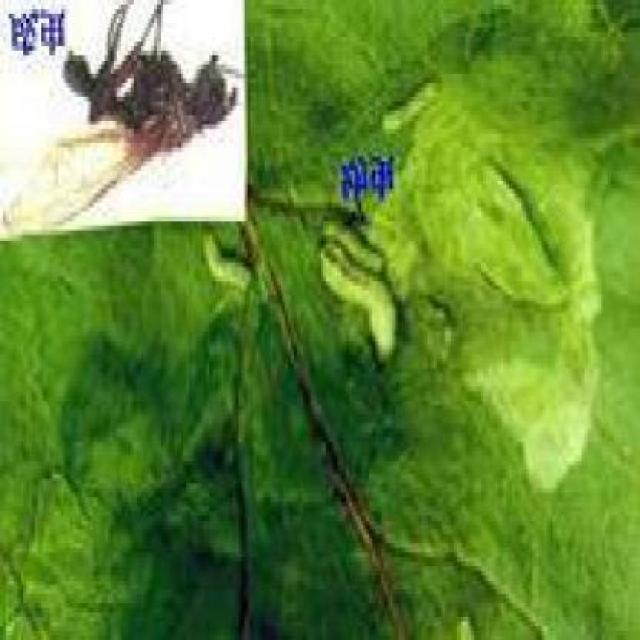whorl-maggot: (301, 194, 407, 363), (380, 68, 458, 144), (198, 227, 258, 301)
